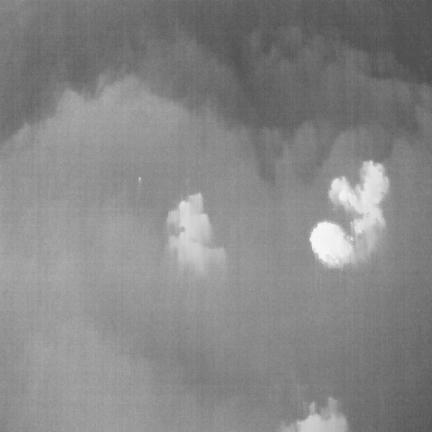flukeprints: (329, 160, 389, 245), (167, 193, 212, 245), (280, 397, 348, 431), (310, 222, 353, 267)
